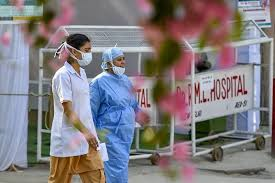mask: (66, 37, 93, 70), (106, 50, 125, 77)
